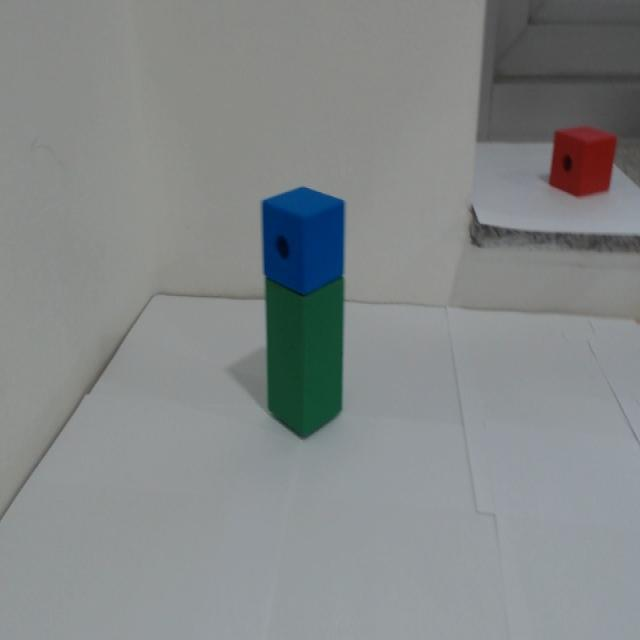cube: (248, 167, 362, 303)
